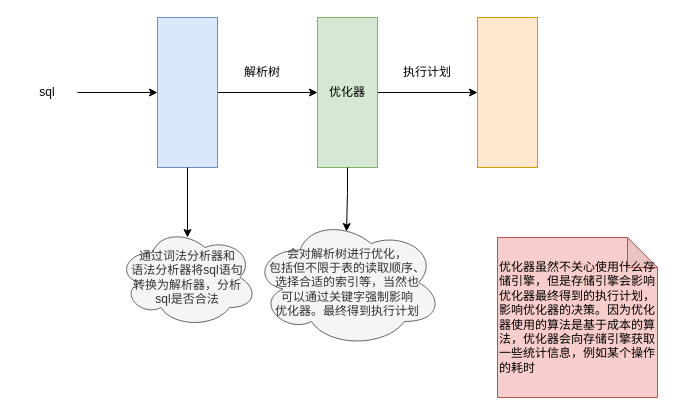
Image size: 675x415. Some labels were removed from this diagram. The shapes that lost their labels are listed below. From the top down, each one's centre as x and y in pixels, then its label:
At (187,92): "解析器".
At (507,92): "执行器".
